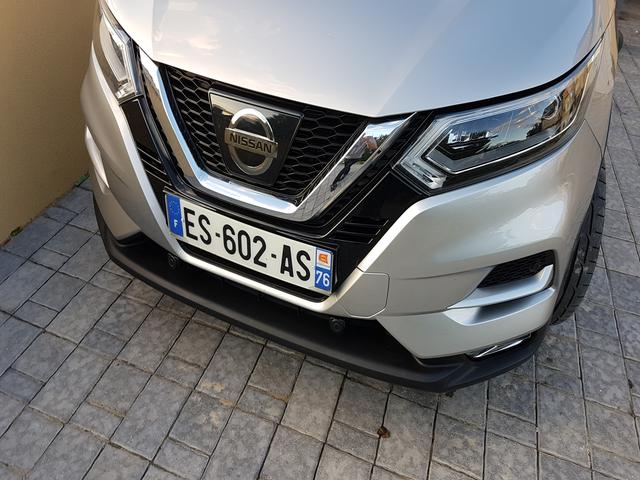Quashquai: (148, 174, 355, 315)
